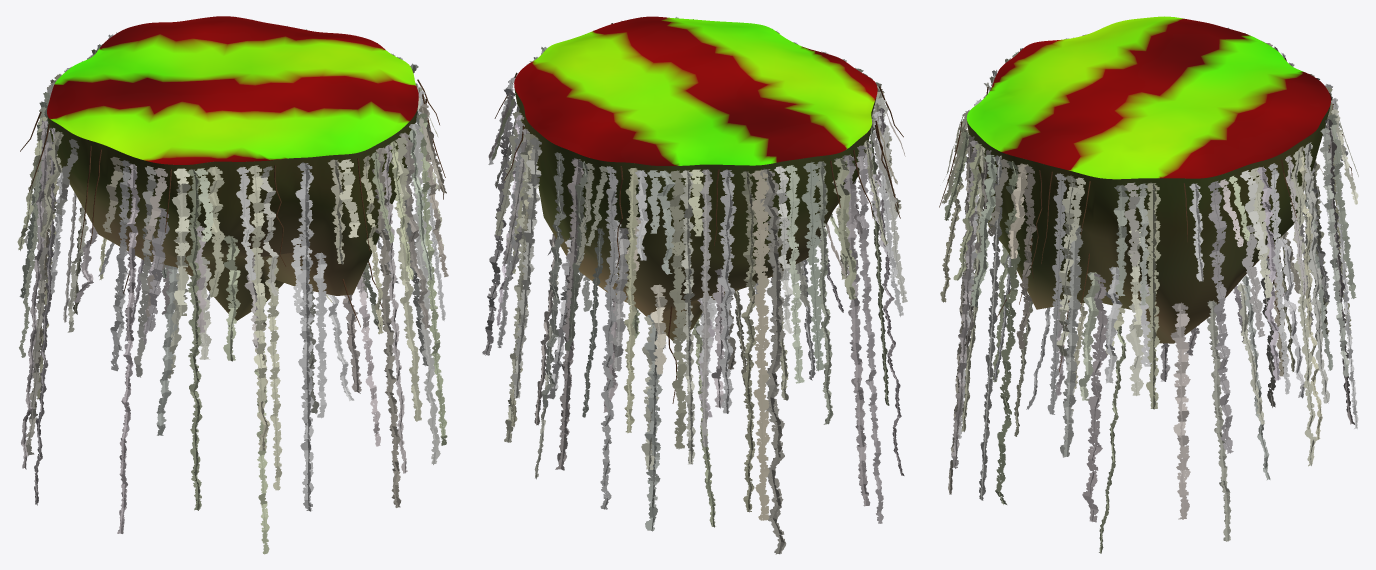
Rendered from SM_H10_Floater07.fbx.
The picture shows the model from 3 angles, left to right: view 1: azimuth 30°, elevation 25°; view 2: azimuth 150°, elevation 25°; view 3: azimuth 270°, elevation 25°; orthographic projection.
Visible parts, largest first — view 1: SM_H10_Floater07, SM_H10_Floater07_Ivy; view 2: SM_H10_Floater07_Ivy, SM_H10_Floater07; view 3: SM_H10_Floater07, SM_H10_Floater07_Ivy.
Boxes of the visible parts, x1,y1,x2,y2 form: SM_H10_Floater07: (47,16,418,320); SM_H10_Floater07_Ivy: (17,16,448,554); SM_H10_Floater07_Ivy: (482,17,907,554); SM_H10_Floater07: (514,16,877,340); SM_H10_Floater07: (966,16,1330,343); SM_H10_Floater07_Ivy: (939,27,1358,553).
Size of the model in its own units: 31.87 by 36.34 by 30.31.
